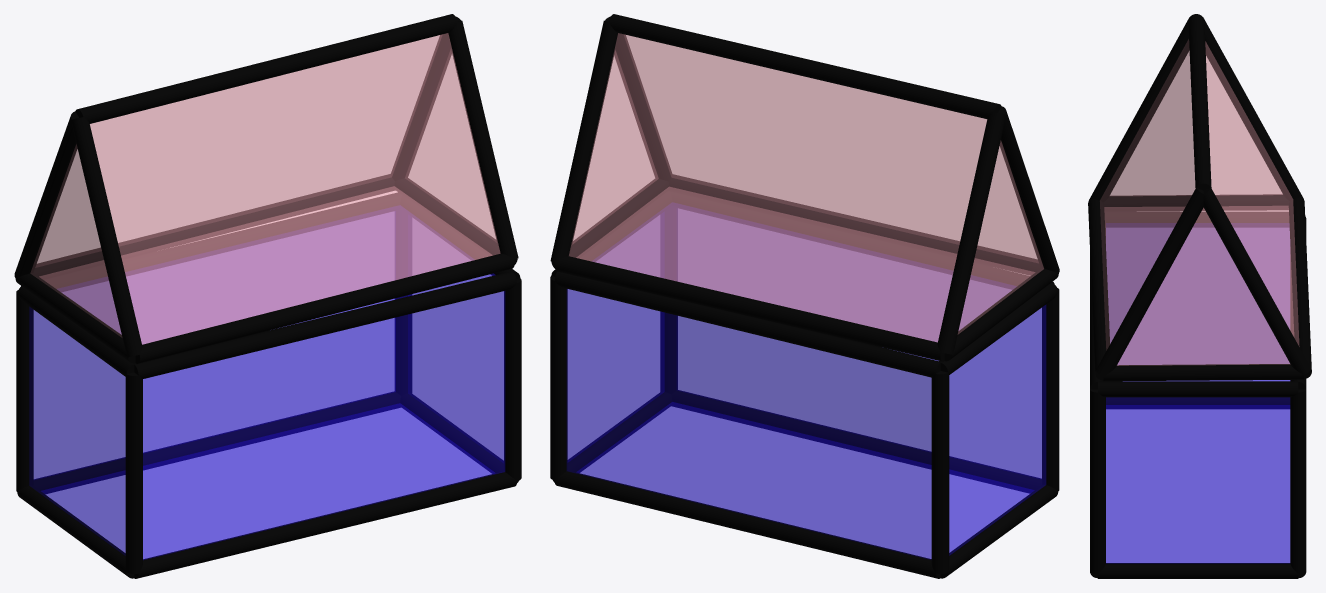
Rendered from triangular prism on rectangle.fbx.
3 renders of one model, left to right at view 1: azimuth 30°, elevation 25°; view 2: azimuth 150°, elevation 25°; view 3: azimuth 270°, elevation 25°, orthographic. The views are drawn at different scales.
Parts seen in each view (by area): view 1: ReferenceCuboid, ReferenceTriangularPrism, PrismEdge.008, PrismEdge.007, CuboidEdge.002, CuboidEdge.006, CuboidEdge.004, PrismEdge.006, CuboidEdge, PrismEdge.001, PrismEdge.004, CuboidEdge.010 (+11 smaller); view 2: ReferenceCuboid, ReferenceTriangularPrism, PrismEdge.008, PrismEdge.006, CuboidEdge.004, CuboidEdge, PrismEdge.007, CuboidEdge.006, CuboidEdge.002, PrismEdge.002, PrismEdge.005, CuboidEdge.009 (+11 smaller); view 3: ReferenceCuboid, ReferenceTriangularPrism, PrismEdge.004, PrismEdge.005, CuboidEdge.003, PrismEdge.003, PrismEdge.001, CuboidEdge.007, PrismEdge.002, CuboidEdge.008, PrismEdge.008, CuboidEdge.011 (+7 smaller).
Boxes of the visible parts, x1,y1,x2,y2 form: ReferenceCuboid: (29,211,504,559); ReferenceTriangularPrism: (30,33,500,344); PrismEdge.008: (75,14,457,123); PrismEdge.007: (135,253,514,363); CuboidEdge.002: (134,272,516,378); CuboidEdge.006: (134,471,516,578); CuboidEdge.004: (33,391,400,493); PrismEdge.006: (33,174,394,279); CuboidEdge: (21,192,401,291); PrismEdge.001: (72,117,142,357); PrismEdge.004: (447,20,518,259); CuboidEdge.010: (125,372,142,573); ReferenceCuboid: (567,208,1045,559); ReferenceTriangularPrism: (569,33,1043,342); PrismEdge.008: (608,14,1001,118); PrismEdge.006: (555,256,944,361); CuboidEdge.004: (554,470,940,578); CuboidEdge: (554,271,940,377); PrismEdge.007: (668,174,1040,275); CuboidEdge.006: (671,390,1041,493); CuboidEdge.002: (671,192,1054,289); PrismEdge.002: (937,112,1005,354); PrismEdge.005: (550,20,618,262); CuboidEdge.009: (931,371,949,573); ReferenceCuboid: (1106,227,1290,563); ReferenceTriangularPrism: (1100,39,1299,365); PrismEdge.004: (1096,187,1203,376); PrismEdge.005: (1203,187,1310,374); CuboidEdge.003: (1098,381,1298,397); PrismEdge.003: (1103,364,1303,381); PrismEdge.001: (1089,17,1189,202); CuboidEdge.007: (1098,563,1298,578); PrismEdge.002: (1203,17,1303,200); CuboidEdge.008: (1290,389,1306,574); PrismEdge.008: (1188,14,1211,190); CuboidEdge.011: (1090,389,1105,574).
Bounding box in the file's own units: 210 × 217 × 112.
